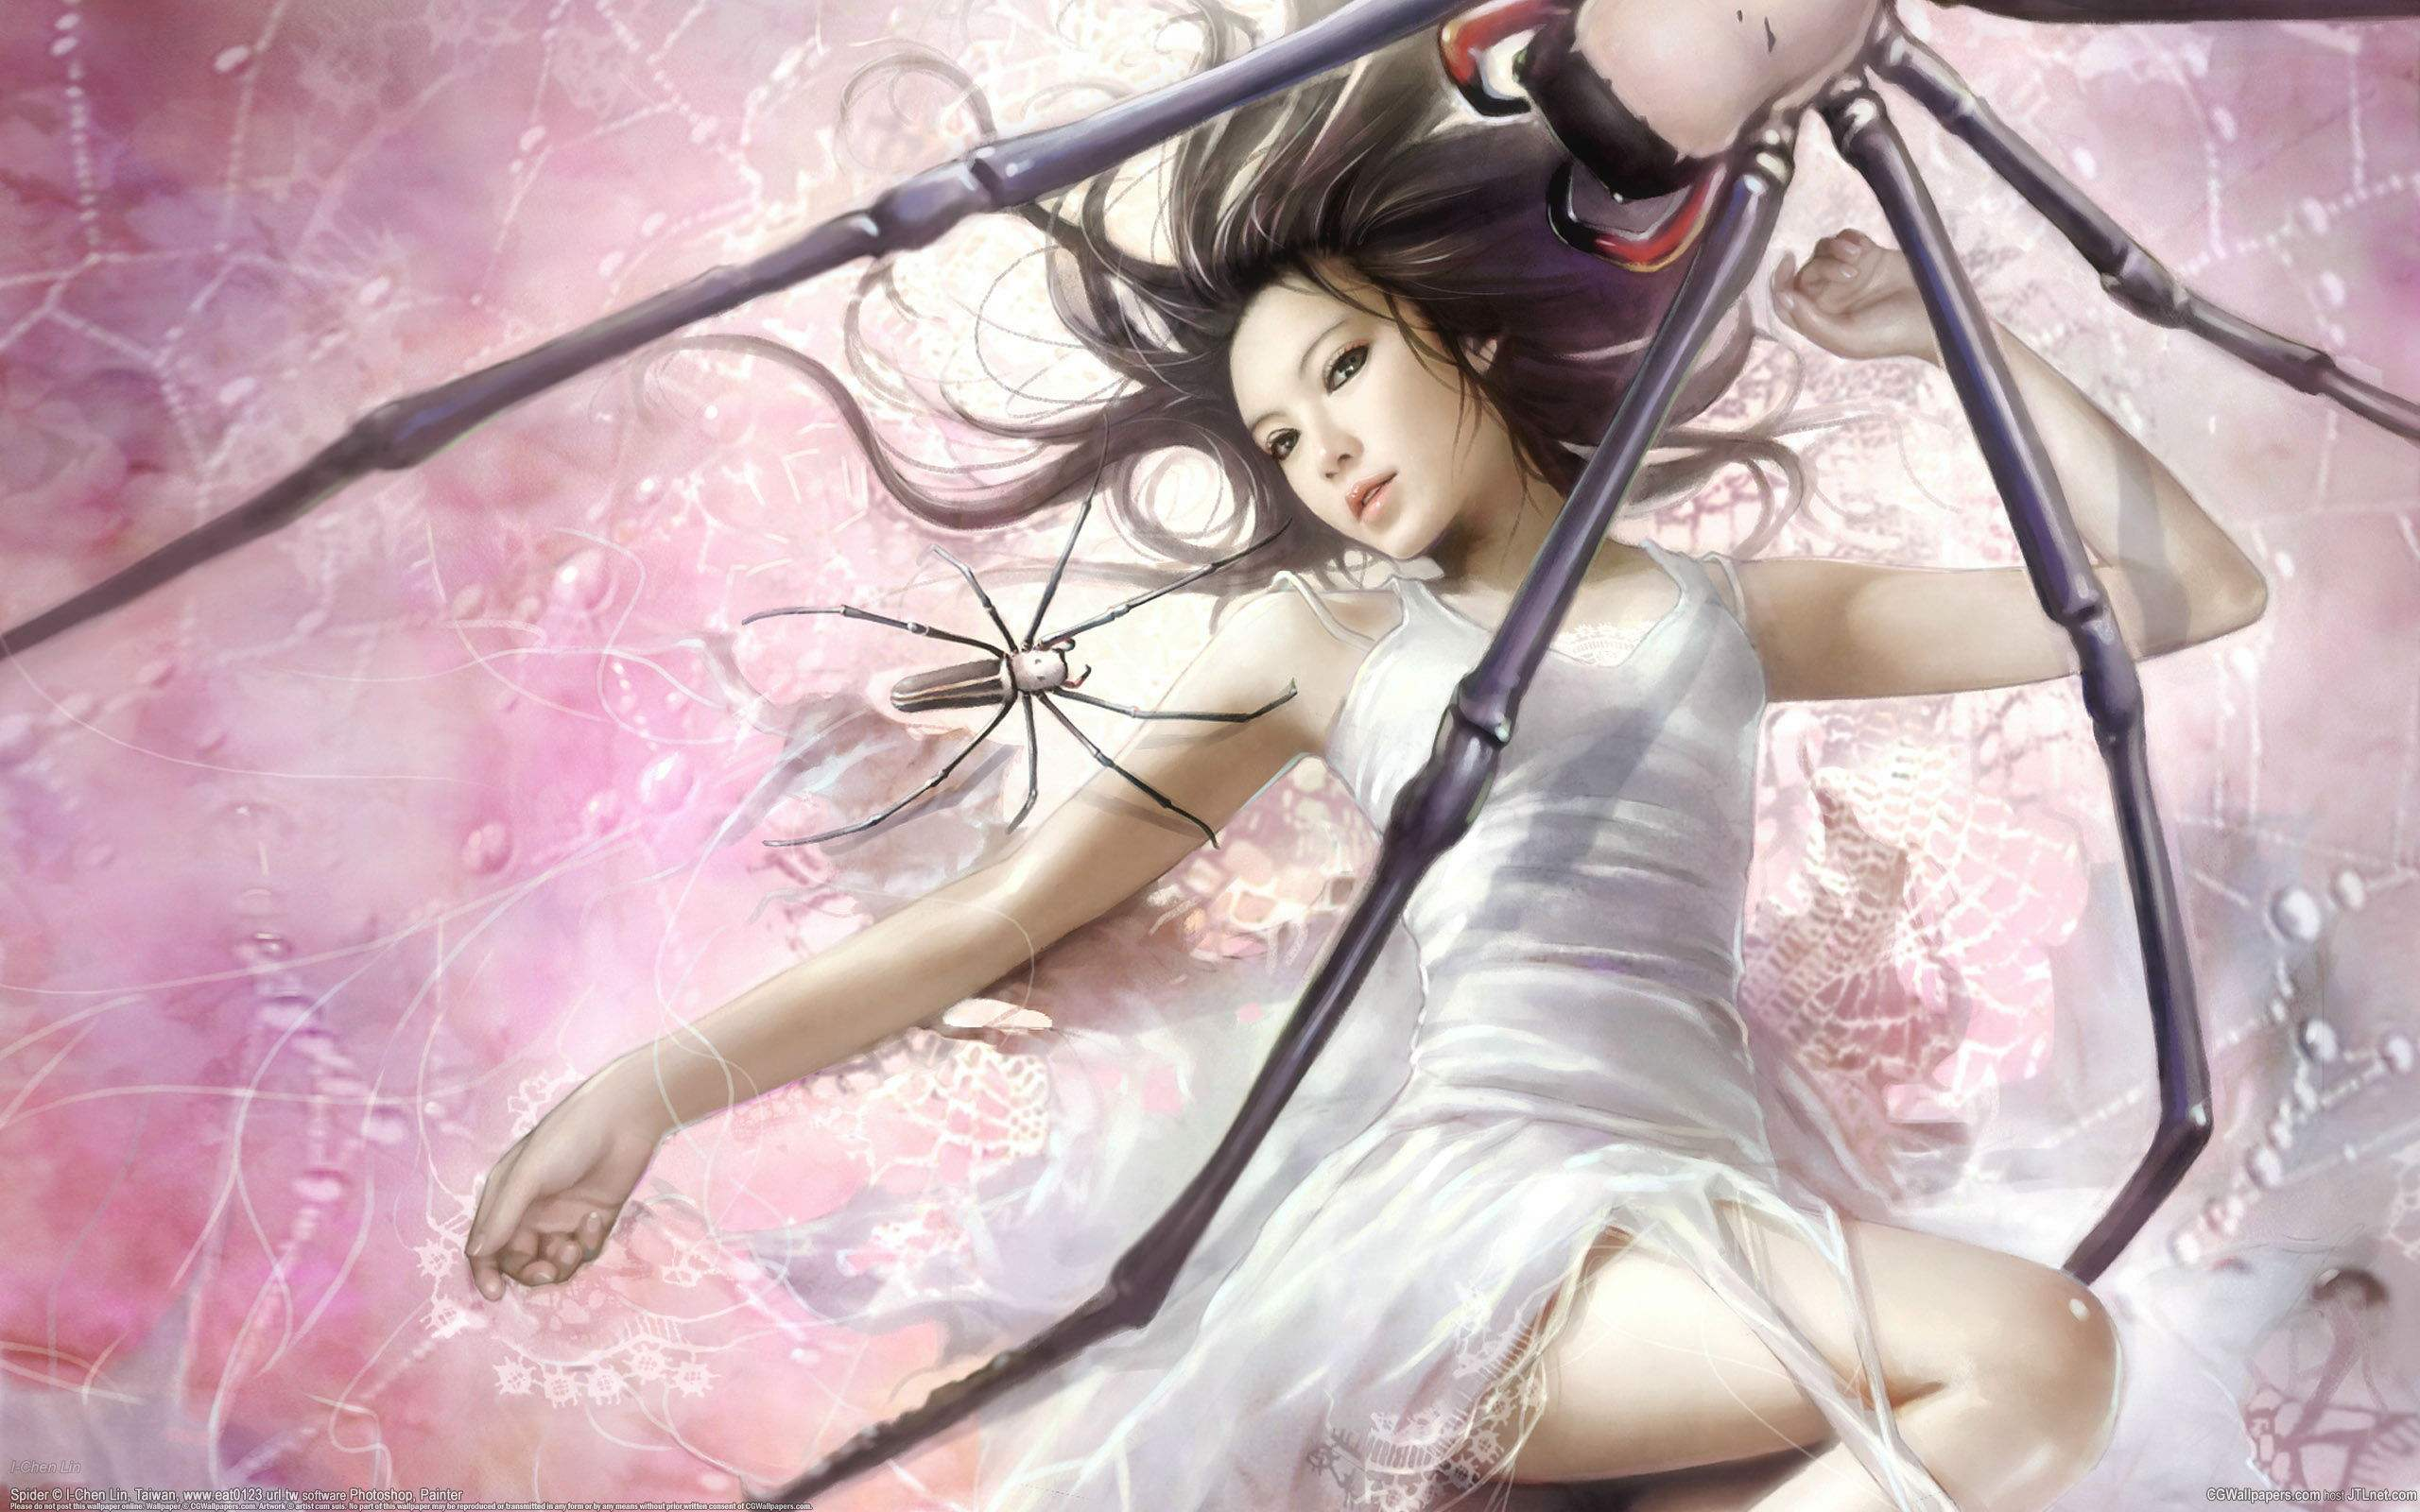person: (1006, 180, 2011, 1101)
